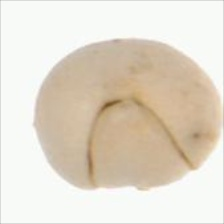L5: (84, 96, 198, 194)
L6: (29, 36, 224, 194)
